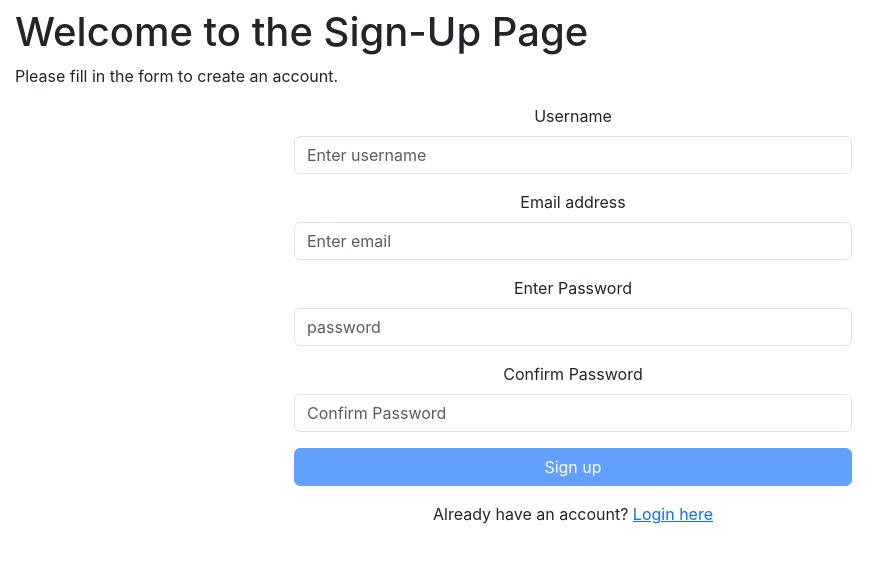
Test: Password Complexity Validation › displays error for password with too short
Type "Short1!" into the password field labelled "Enter Password" at (573, 327), box [294,308,852,346]
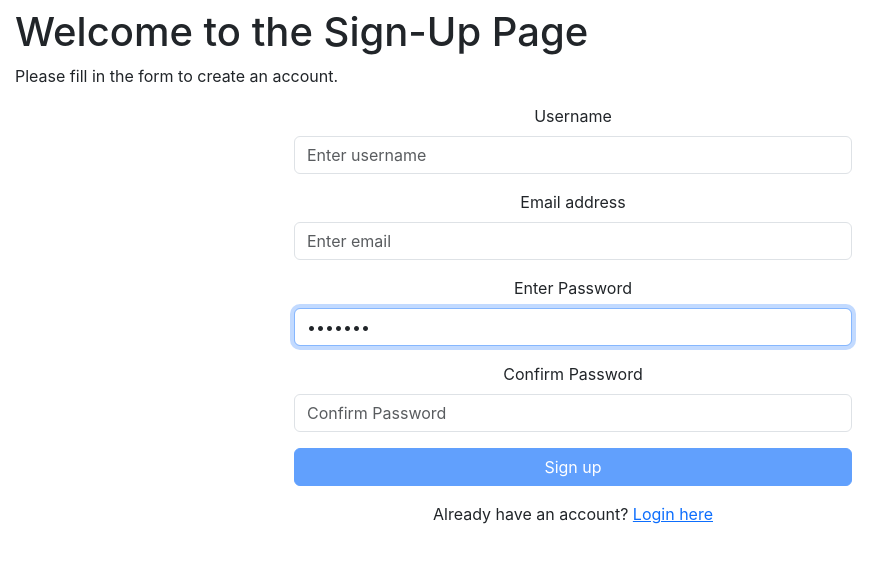
Type "Short1!" into the password field labelled "Confirm Password" at (573, 413), box [294,394,852,432]
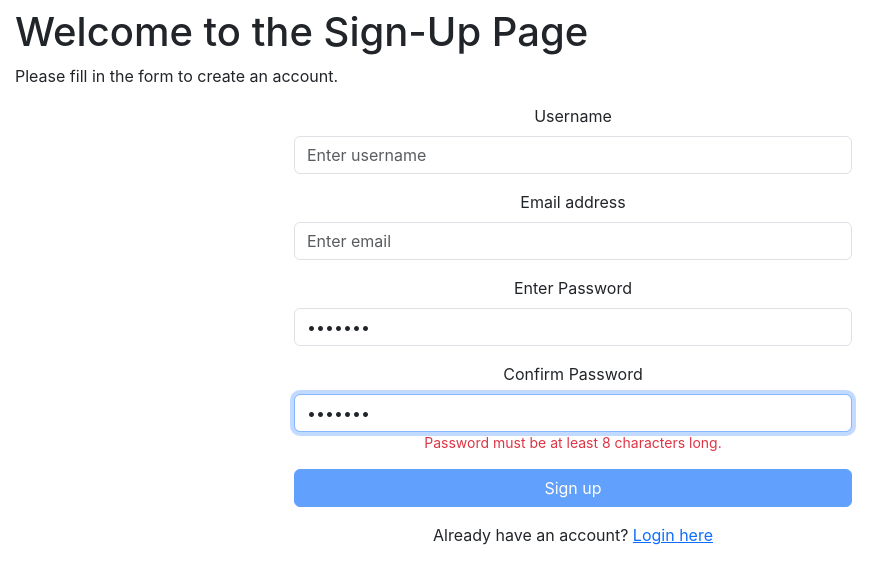
Check: the text "Password must be at least 8 characters long." is shown, box [424,434,722,451]
